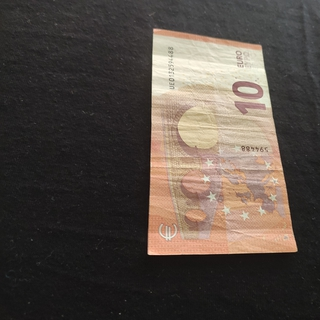10EUROBack: (147, 28, 298, 257)
